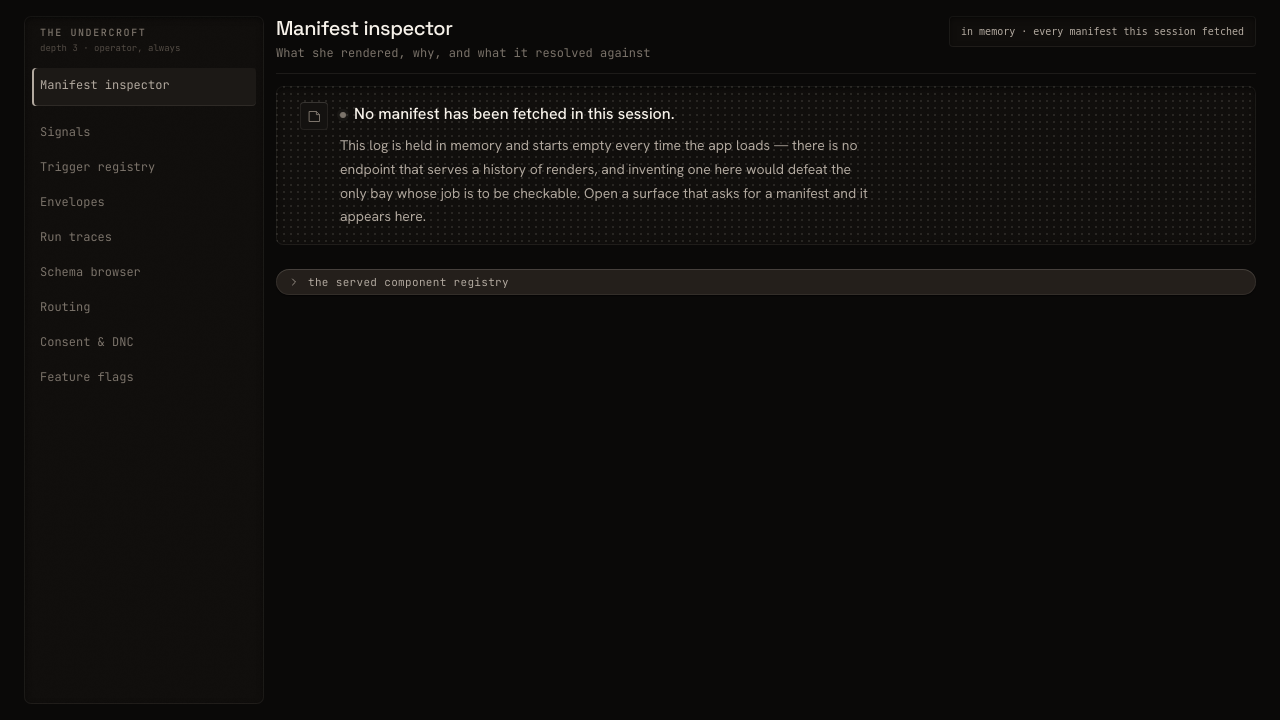
Test: W5 — the Undercroft names endpoints that answer › prints no cost in the routing bay, and says where cost lives
The width and height of the screenshot is (1280, 720).
What coordinates should you click on to do the following:
click the button "Routing"
I would click on:
 (144, 306)
Its box is [32,290,256,324].
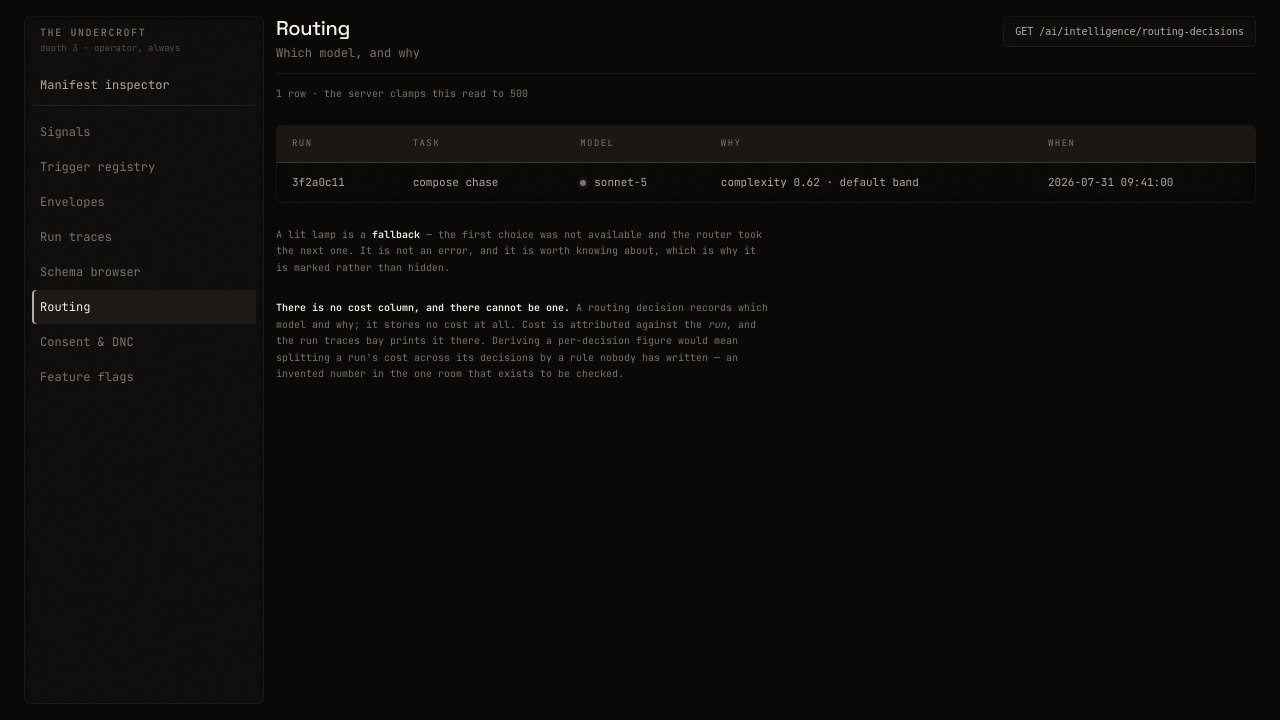
Result: the table with class "uc-table" is shown at [276,125,1256,203]
